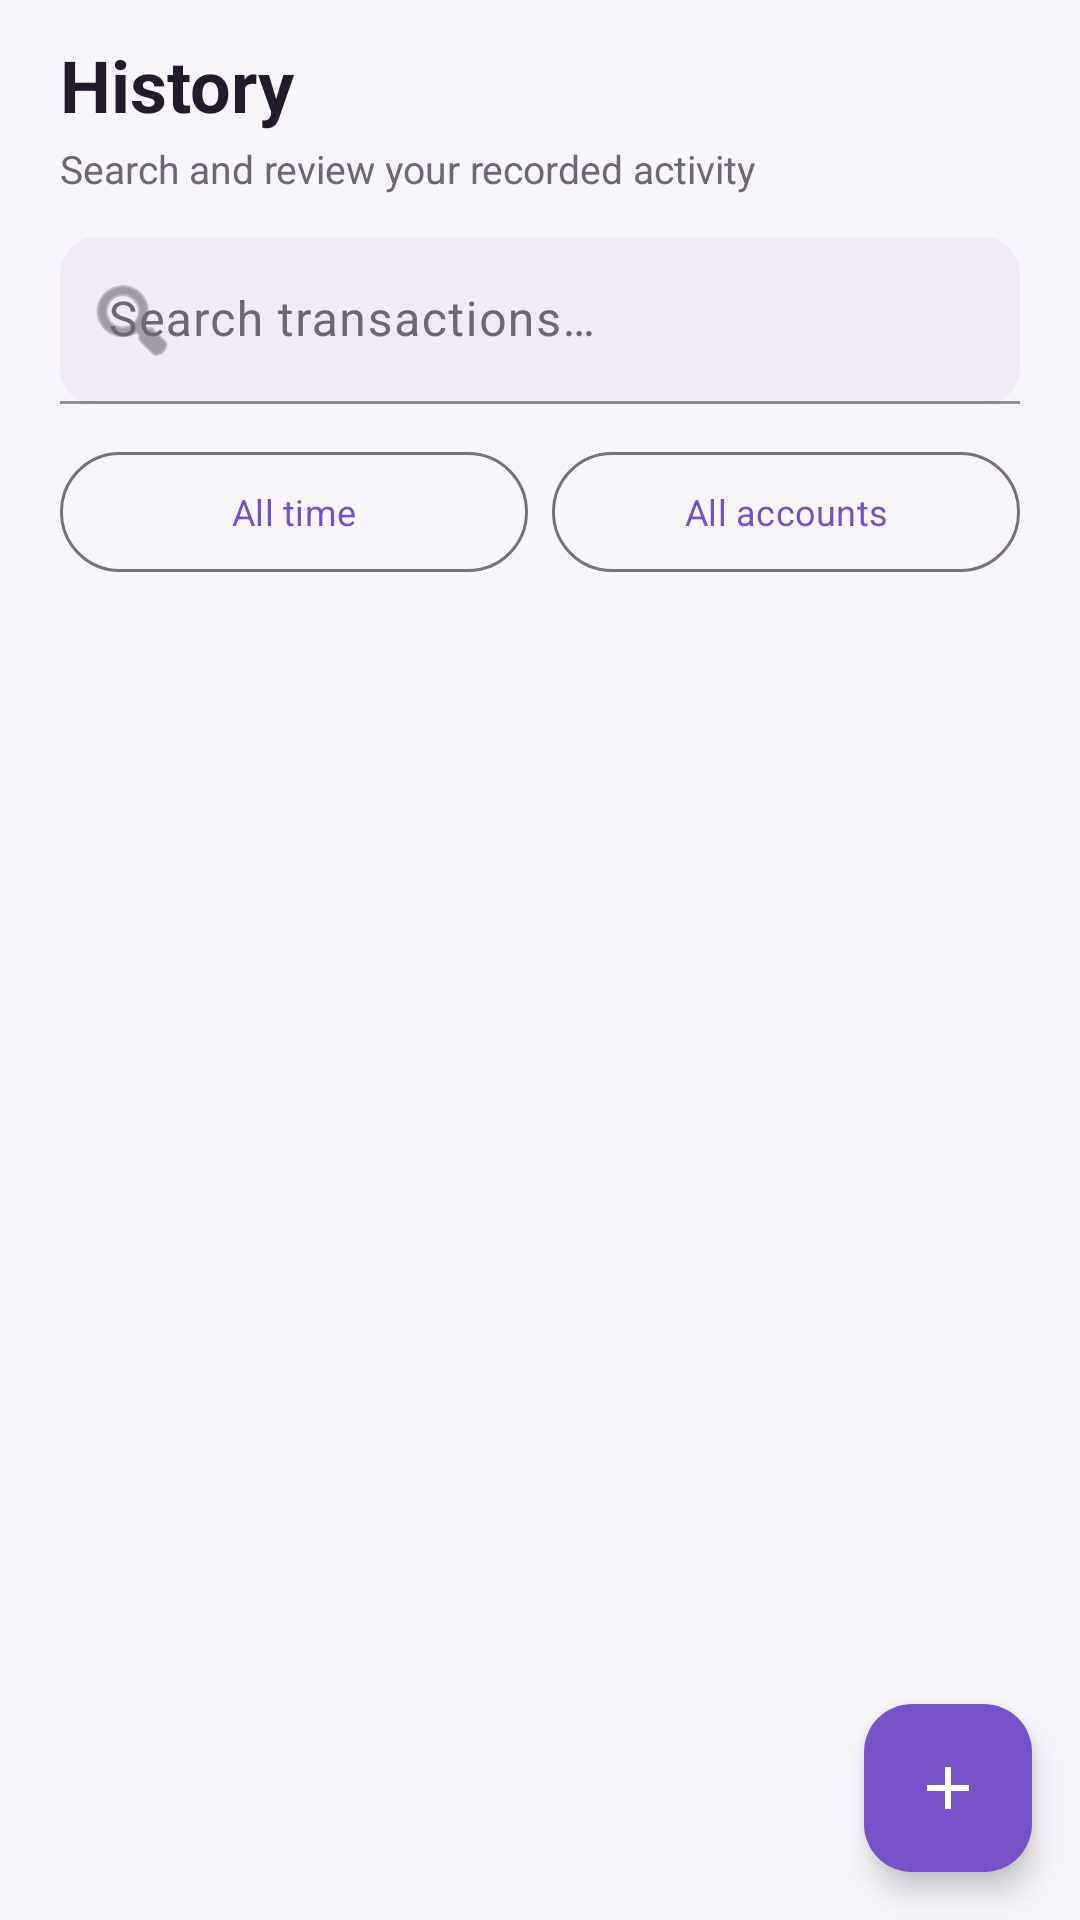

Named icons in this screenshot (1080x1920) and their centers, (x=x, y=y):
Add Transaction: (x=948, y=1788)
